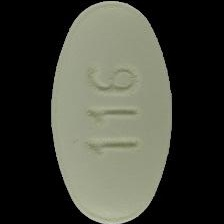50090-1210: (0, 0, 224, 224)
